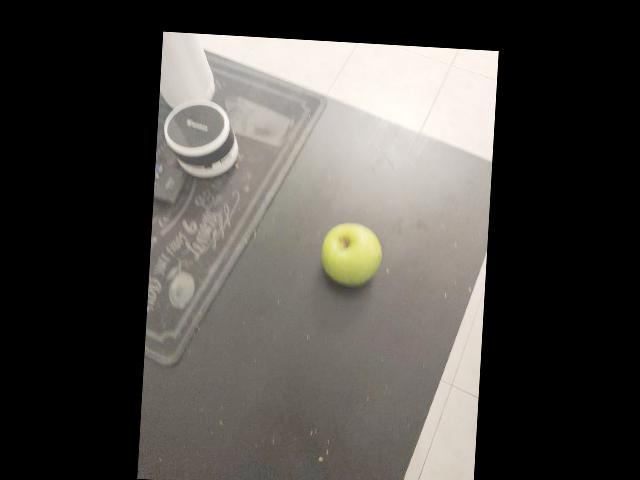apple: (333, 151, 431, 226)
